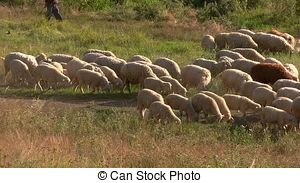sheep: (4, 52, 40, 84), (250, 30, 299, 53), (88, 53, 125, 82), (118, 60, 158, 86), (190, 92, 228, 119), (165, 92, 204, 117), (36, 65, 72, 92), (249, 63, 291, 86), (120, 63, 160, 87), (141, 102, 184, 124), (75, 70, 111, 96), (238, 79, 274, 104), (152, 57, 187, 80), (194, 58, 229, 80), (181, 64, 212, 88), (135, 88, 170, 109), (179, 65, 215, 85), (258, 108, 292, 129), (219, 69, 251, 91), (140, 76, 175, 96), (68, 54, 95, 79), (248, 88, 281, 108), (226, 48, 267, 64), (227, 33, 265, 50), (213, 49, 250, 65), (200, 31, 224, 55), (227, 60, 260, 77), (45, 53, 76, 71), (272, 82, 299, 102)
